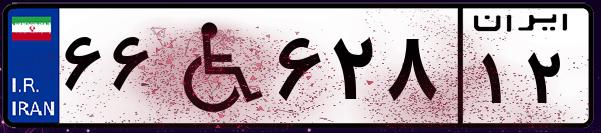1: (475, 38, 525, 113)
2: (330, 28, 385, 110), (525, 38, 570, 115)
6: (270, 28, 330, 110), (57, 26, 110, 100), (110, 28, 158, 98)
8: (385, 28, 445, 110)
ژ (معلولین و جانبازان): (158, 12, 270, 120)
